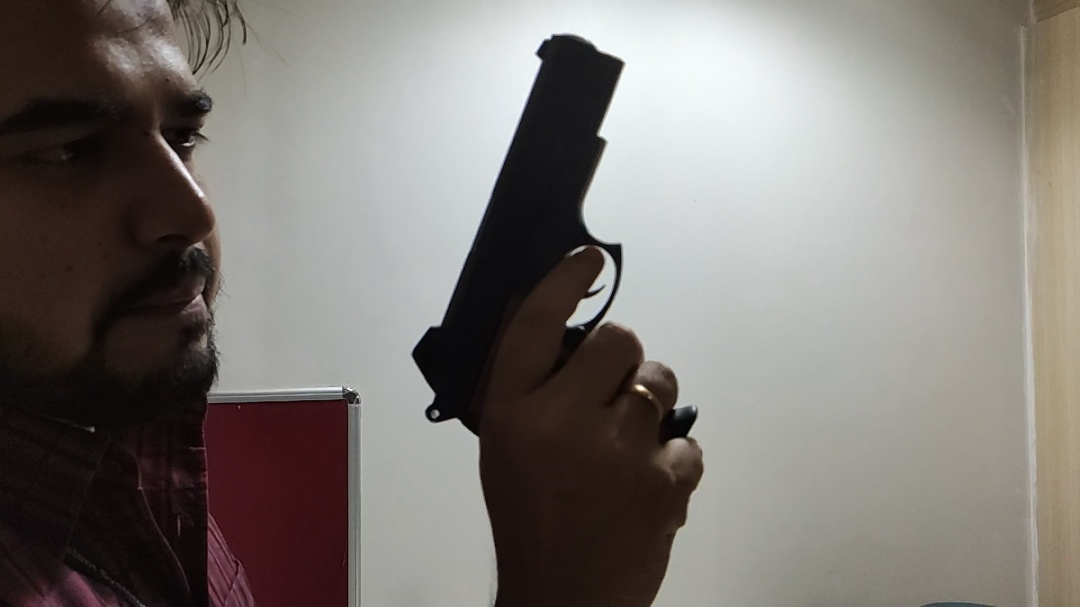gun: (409, 30, 699, 458)
